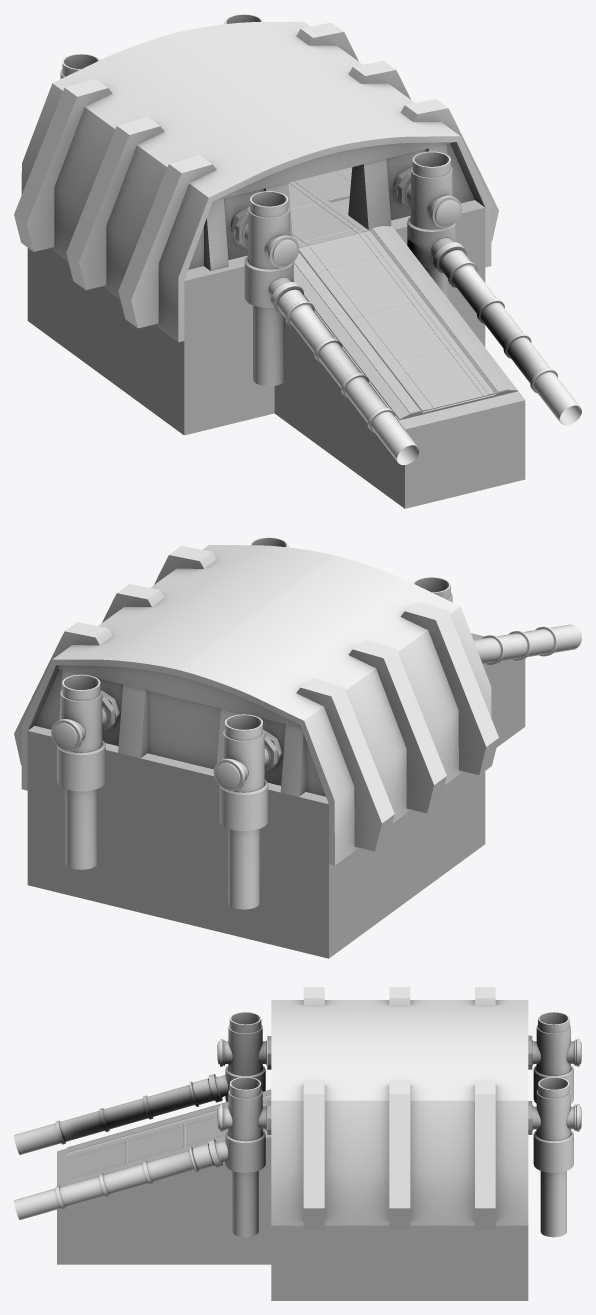
The model's file is building02.fbx.
The picture shows the model from 3 angles, top to bottom: view 1: azimuth 30°, elevation 25°; view 2: azimuth 150°, elevation 25°; view 3: azimuth 270°, elevation 25°; orthographic projection. The views are drawn at different scales.
Visible parts, largest first — view 1: Hangar, Foundation, HangarFloor; view 2: Hangar, Foundation; view 3: Hangar, Foundation, HangarFloor.
Boxes of the visible parts, <box> form: Hangar: <box>14,14,581,464</box>; Foundation: <box>27,198,525,508</box>; HangarFloor: <box>288,167,494,411</box>; Hangar: <box>14,537,581,909</box>; Foundation: <box>27,659,525,958</box>; Hangar: <box>14,987,581,1237</box>; Foundation: <box>57,1089,528,1300</box>; HangarFloor: <box>68,1096,271,1182</box>.
Bounding box in the file's own units: 6111 × 4000 × 9948.
